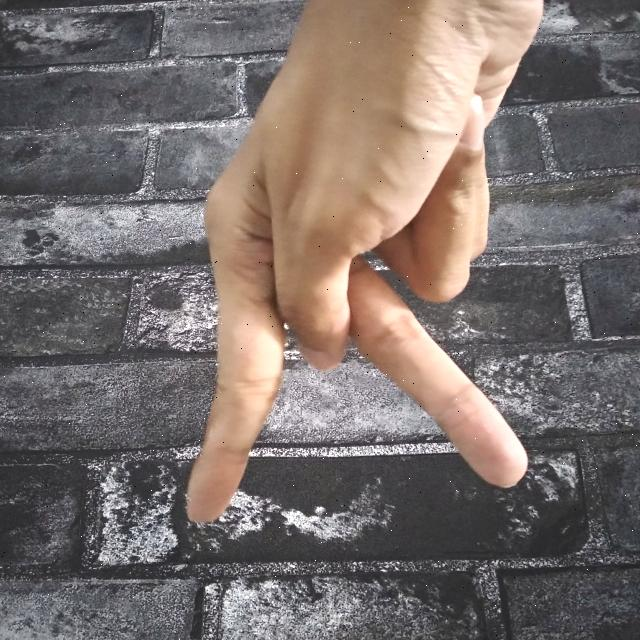P: (179, 0, 555, 542)
